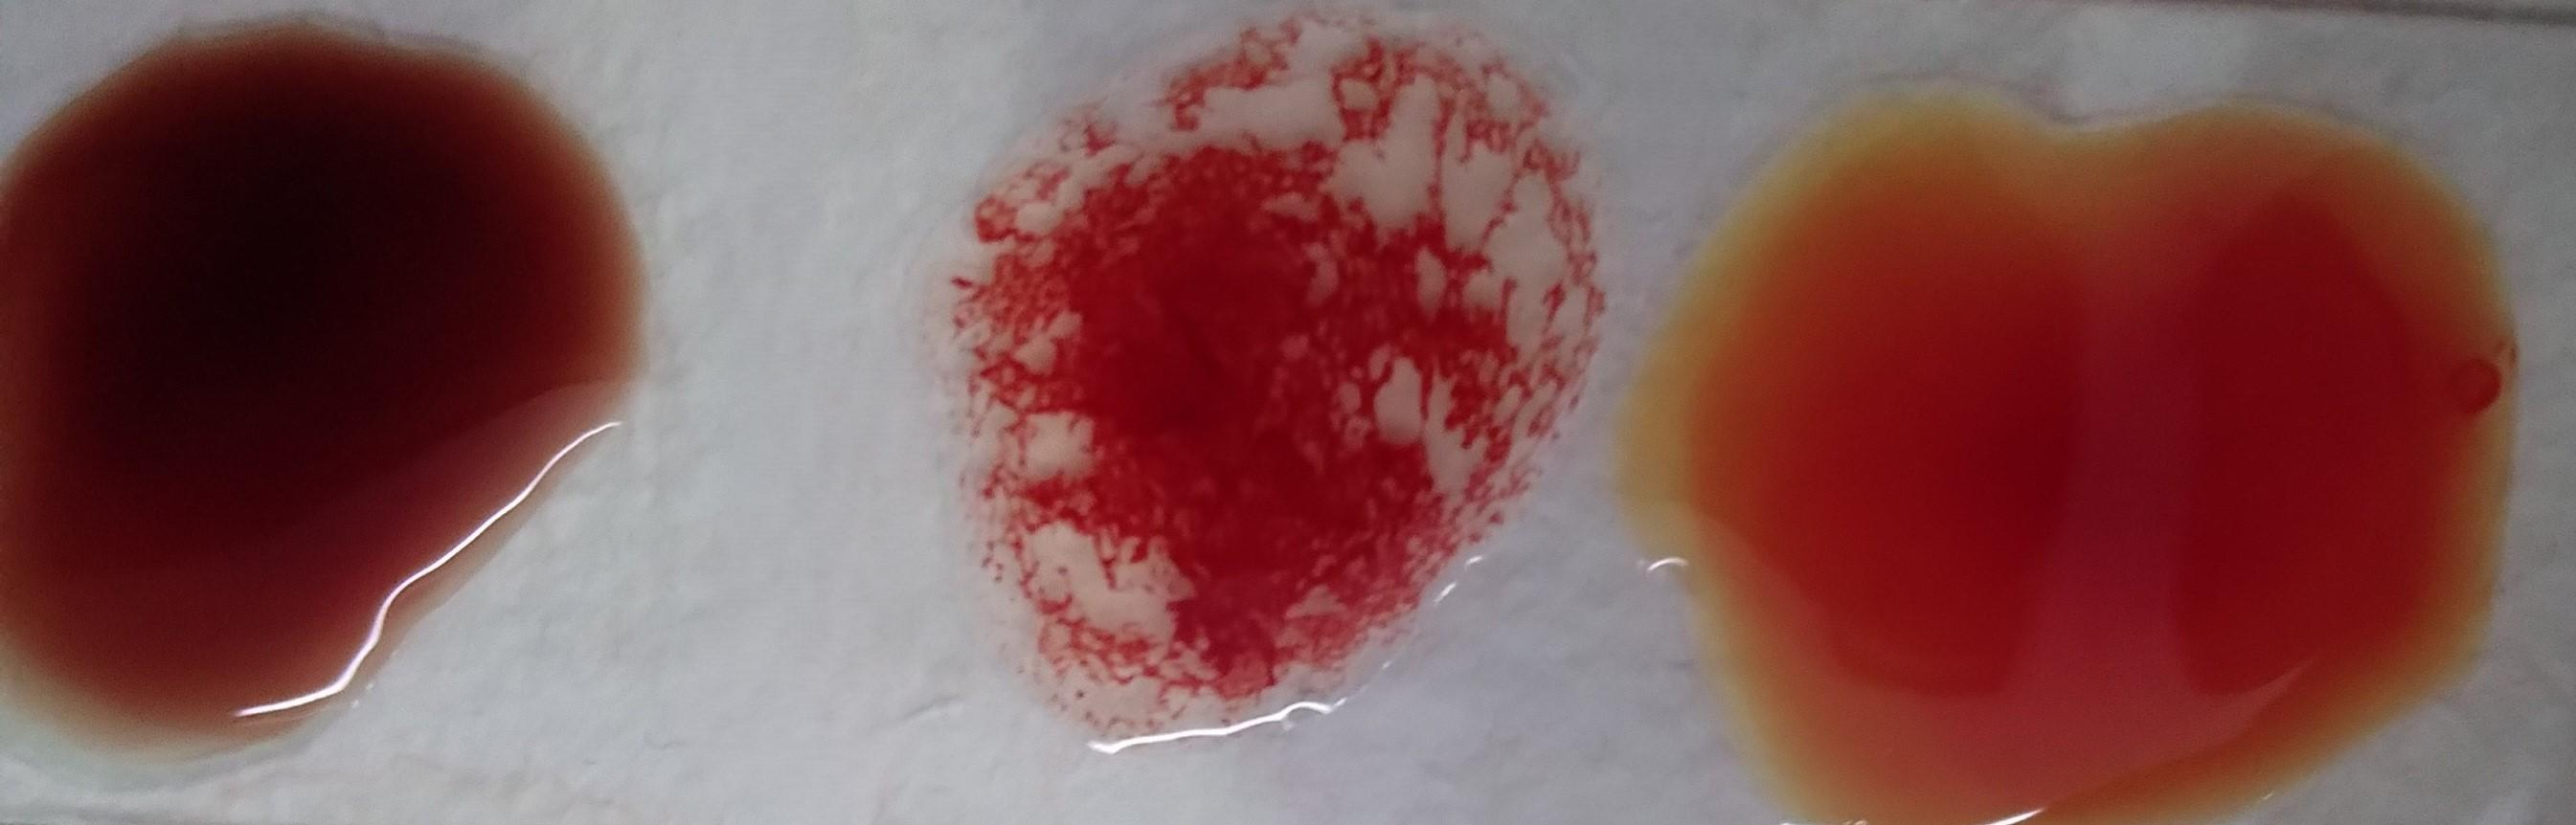D: (948, 35, 1559, 756)
